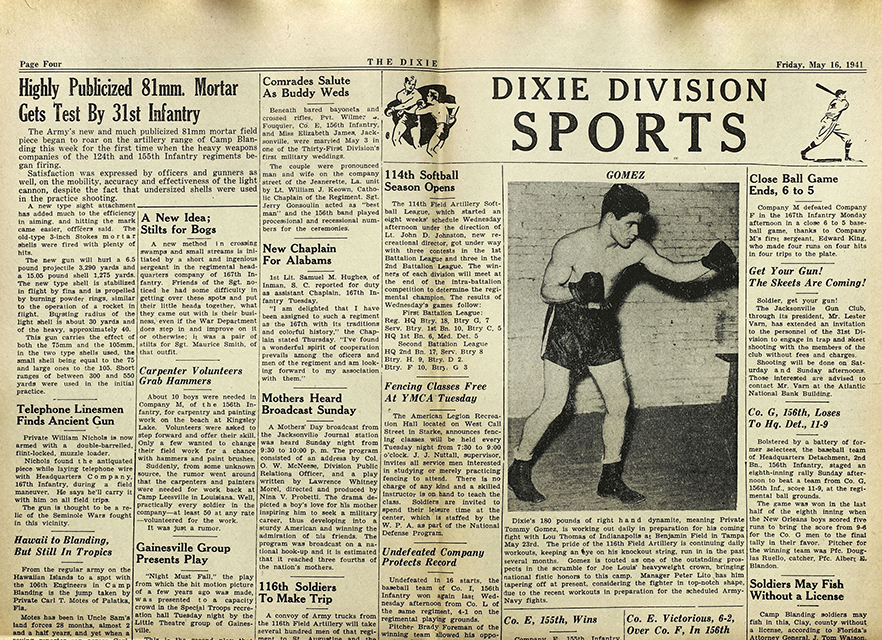news_paper: (1, 2, 882, 640)
